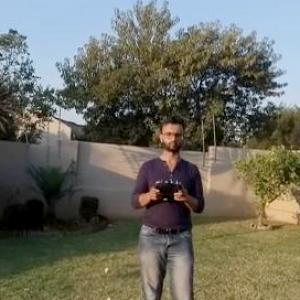follow: (125, 111, 210, 299)
